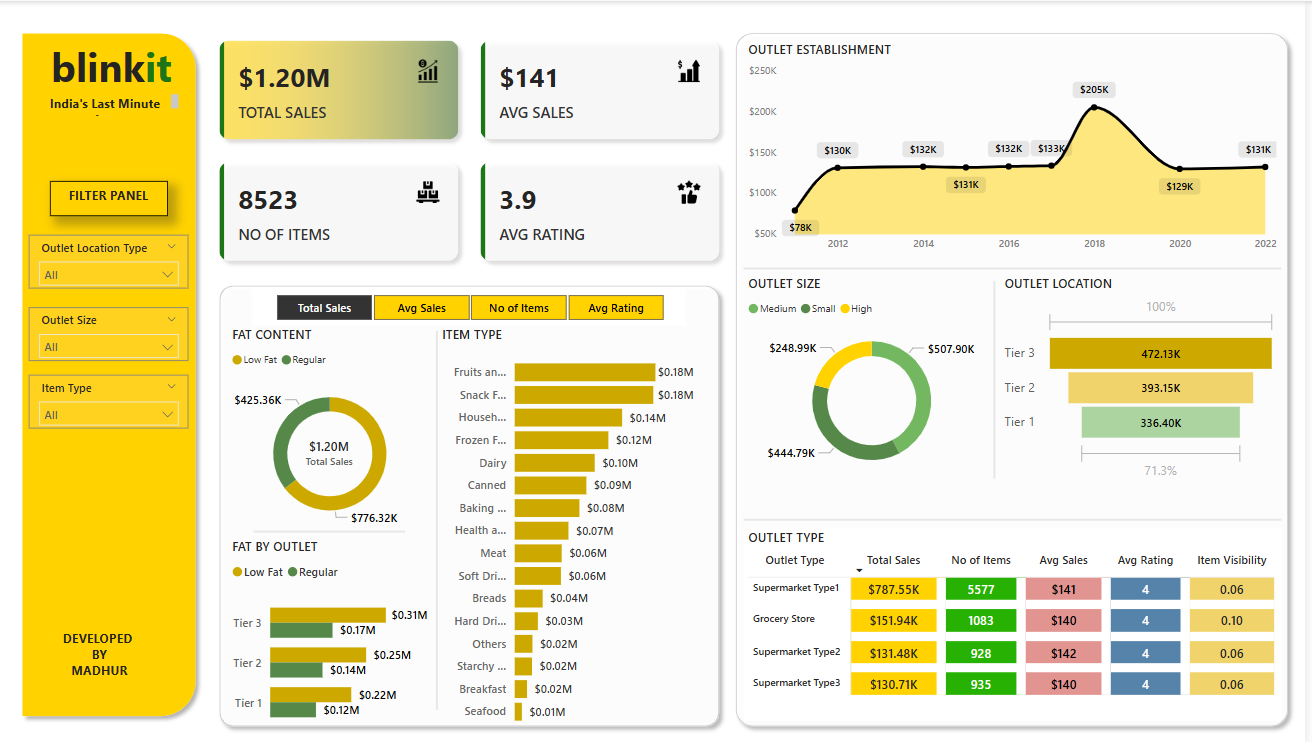

The dashboard page shown, as its layout file describes it:
{"tool":"powerbi","page":{"name":"Page 1","canvas":[1400,800],"ordinal":0},"visuals":[{"type":"shape","box":[15,25.5,204.1,750.4],"z":0},{"type":"textbox","box":[550.8,196.6,402.2,69],"z":1000},{"type":"textbox","box":[36.2,36.2,166.2,75.1],"z":2000},{"type":"textbox","box":[36,94.6,160.6,33],"z":3000},{"type":"cardVisual","fields":{"Data":["BlinkIT Grocery Data.Total Sales","BlinkIT Grocery Data.Avg Sales","BlinkIT Grocery Data.No of Items","BlinkIT Grocery Data.Avg Rating"]},"box":[219.1,25.5,570.3,270.2],"z":4000},{"type":"shape","box":[226.5,296.2,553.6,490.6],"z":5000},{"type":"slicer","fields":{"Values":["Metrics.Metrics"]},"box":[270.8,308.3,465.1,40.2],"z":6000},{"type":"donutChart","title":"FAT CONTENT","fields":{"Y":["BlinkIT Grocery Data.Total Sales"],"Category":["BlinkIT Grocery Data.Item Fat Content"]},"box":[244,348.5,219.8,229.2],"z":7000},{"type":"cardVisual","fields":{"Data":["BlinkIT Grocery Data.Total Sales"]},"box":[303,451.7,100.5,53.6],"z":8000},{"type":"clusteredBarChart","title":"FAT BY OUTLET","fields":{"Y":["BlinkIT Grocery Data.Total Sales"],"Category":["BlinkIT Grocery Data.Outlet Location Type"],"Series":["BlinkIT Grocery Data.Item Fat Content"]},"box":[244,575.1,219.8,217.2],"z":9000},{"type":"shape","box":[272.1,563,162.2,12.1],"z":10000},{"type":"shape","box":[462.5,353.9,12.1,406.2],"z":11000},{"type":"barChart","title":"ITEM TYPE","fields":{"Y":["BlinkIT Grocery Data.Total Sales"],"Category":["BlinkIT Grocery Data.Item Type"]},"box":[469.2,348.5,280.2,438.3],"z":12000},{"type":"shape","box":[780.2,25.5,609.9,761.4],"z":13000},{"type":"lineChart","title":"OUTLET ESTABLISHMENT","fields":{"Y":["BlinkIT Grocery Data.Total Sales"],"Category":["BlinkIT Grocery Data.Outlet Establishment Year"]},"box":[797.6,42.9,576.4,234.6],"z":14000},{"type":"shape","box":[797.6,277.5,576.4,18.8],"z":15000},{"type":"donutChart","title":"OUTLET SIZE","fields":{"Y":["BlinkIT Grocery Data.Total Sales"],"Category":["BlinkIT Grocery Data.Outlet Size"]},"box":[797.6,293.6,274.8,225.2],"z":16000},{"type":"shape","box":[1060.3,300.3,12.1,211.8],"z":17000},{"type":"funnel","title":"OUTLET LOCATION","fields":{"Y":["Sum(BlinkIT Grocery Data.Sales)"],"Category":["BlinkIT Grocery Data.Outlet Location Type"]},"box":[1072.4,293.6,301.6,225.2],"z":18000},{"type":"shape","box":[797.6,546.9,576.4,18.8],"z":19000},{"type":"pivotTable","title":"OUTLET TYPE","fields":{"Rows":["BlinkIT Grocery Data.Outlet Type"],"Values":["BlinkIT Grocery Data.Total Sales","BlinkIT Grocery Data.No of Items","BlinkIT Grocery Data.Avg Sales","BlinkIT Grocery Data.Avg Rating","Avg(BlinkIT Grocery Data.Item Visibility)"]},"box":[797.6,565.7,576.4,206.4],"z":20000},{"type":"slicer","fields":{"Values":["BlinkIT Grocery Data.Outlet Location Type"]},"box":[30.8,250.7,171.6,57.6],"z":21000},{"type":"slicer","fields":{"Values":["BlinkIT Grocery Data.Outlet Size"]},"box":[30.8,328.4,171.6,57.6],"z":22000},{"type":"slicer","fields":{"Values":["BlinkIT Grocery Data.Item Type"]},"box":[30.8,400.8,171.6,57.6],"z":23000},{"type":"textbox","box":[53.6,193,126,37.5],"z":24000},{"type":"textbox","box":[53.6,668.9,105.9,73.7],"z":25000}]}

Visuals, with their boxes in screenshot pixels (x1, y1, x2, y2), scaled from the page's 1400x800 canvas onto the 1312x742 screenshot:
shape: BBox(14, 24, 205, 720)
textbox: BBox(516, 182, 893, 246)
textbox: BBox(34, 34, 190, 103)
textbox: BBox(34, 88, 184, 118)
cardVisual - BlinkIT Grocery Data.Total Sales x BlinkIT Grocery Data.Avg Sales: BBox(205, 24, 740, 274)
shape: BBox(212, 275, 731, 730)
slicer - Metrics.Metrics: BBox(254, 286, 690, 323)
"FAT CONTENT" donutChart: BBox(229, 323, 435, 536)
cardVisual - BlinkIT Grocery Data.Total Sales: BBox(284, 419, 378, 469)
"FAT BY OUTLET" clusteredBarChart: BBox(229, 533, 435, 735)
shape: BBox(255, 522, 407, 533)
shape: BBox(433, 328, 445, 705)
"ITEM TYPE" barChart: BBox(440, 323, 702, 730)
shape: BBox(731, 24, 1303, 730)
"OUTLET ESTABLISHMENT" lineChart: BBox(747, 40, 1288, 257)
shape: BBox(747, 257, 1288, 275)
"OUTLET SIZE" donutChart: BBox(747, 272, 1005, 481)
shape: BBox(994, 279, 1005, 475)
"OUTLET LOCATION" funnel: BBox(1005, 272, 1288, 481)
shape: BBox(747, 507, 1288, 525)
"OUTLET TYPE" pivotTable: BBox(747, 525, 1288, 716)
slicer - BlinkIT Grocery Data.Outlet Location Type: BBox(29, 233, 190, 286)
slicer - BlinkIT Grocery Data.Outlet Size: BBox(29, 305, 190, 358)
slicer - BlinkIT Grocery Data.Item Type: BBox(29, 372, 190, 425)
textbox: BBox(50, 179, 168, 214)
textbox: BBox(50, 620, 149, 689)
